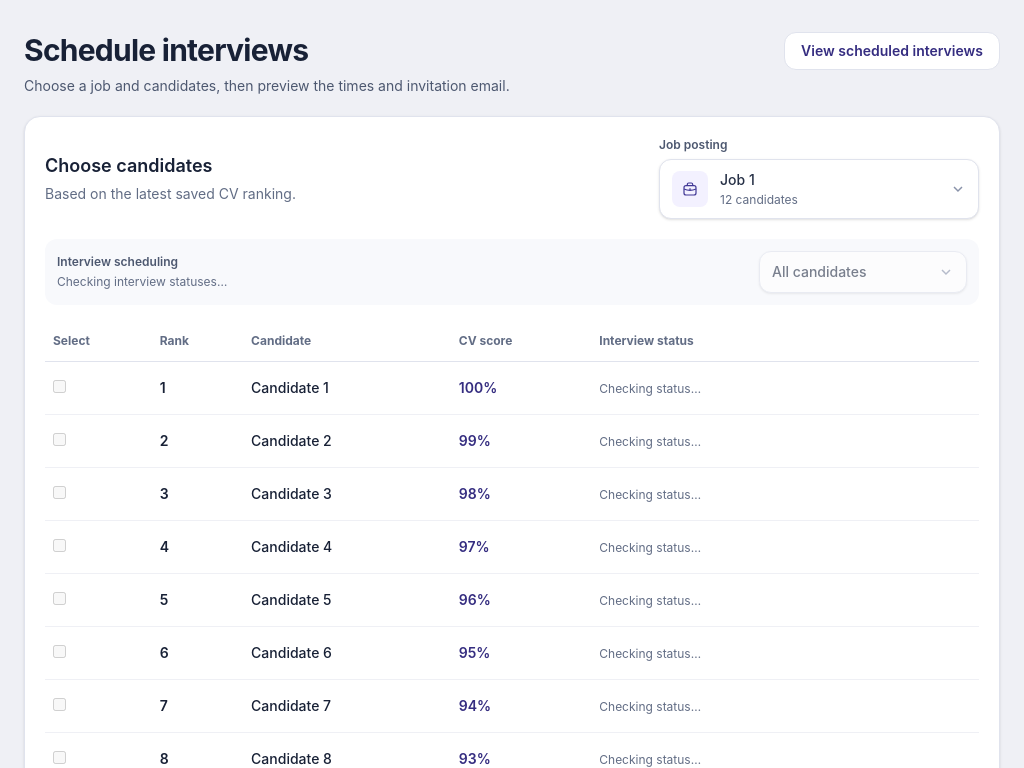
it: ignores late interview statuses from a previously selected job
The image size is (1024, 768).
Expected: the text "Candidate 1" is shown, left=243, top=362, right=451, bottom=414
Expected: the checkbox named "Select Candidate 1 for interview" is disabled, left=53, top=380, right=66, bottom=393
Click the dropdown named "Job posting": (690, 189) left=659, top=159, right=979, bottom=219
(page scrolled)
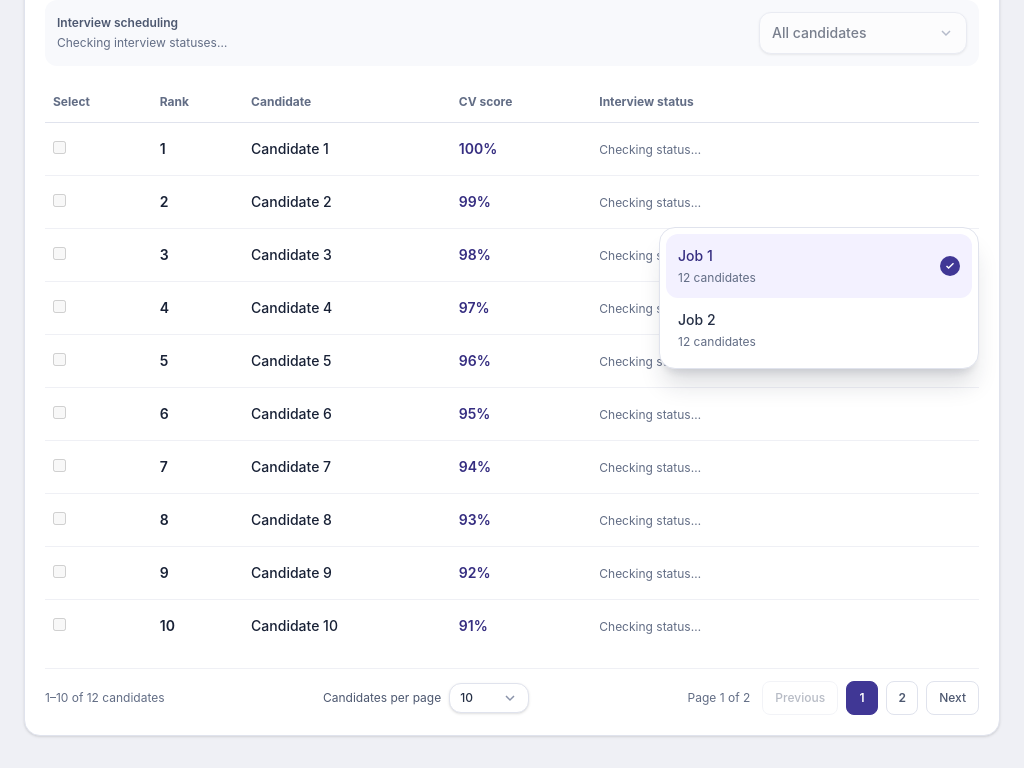
Click the option "Job 2 12 candidates": (697, 320) left=678, top=311, right=957, bottom=349
(page scrolled)
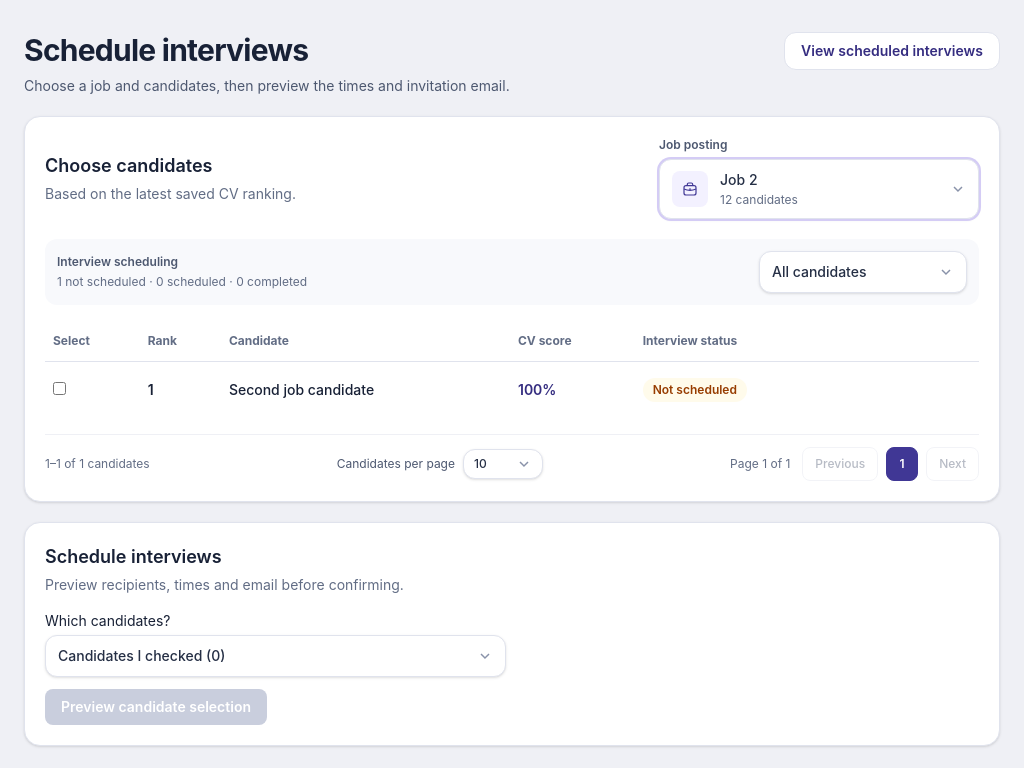
Now the text "Second job candidate" is shown, box left=221, top=362, right=510, bottom=418
Now the text "1 not scheduled · 0 scheduled · 0 completed" is shown, box left=57, top=274, right=307, bottom=290
Now the checkbox named "Select Second job candidate for interview" is enabled, box left=53, top=382, right=66, bottom=395
